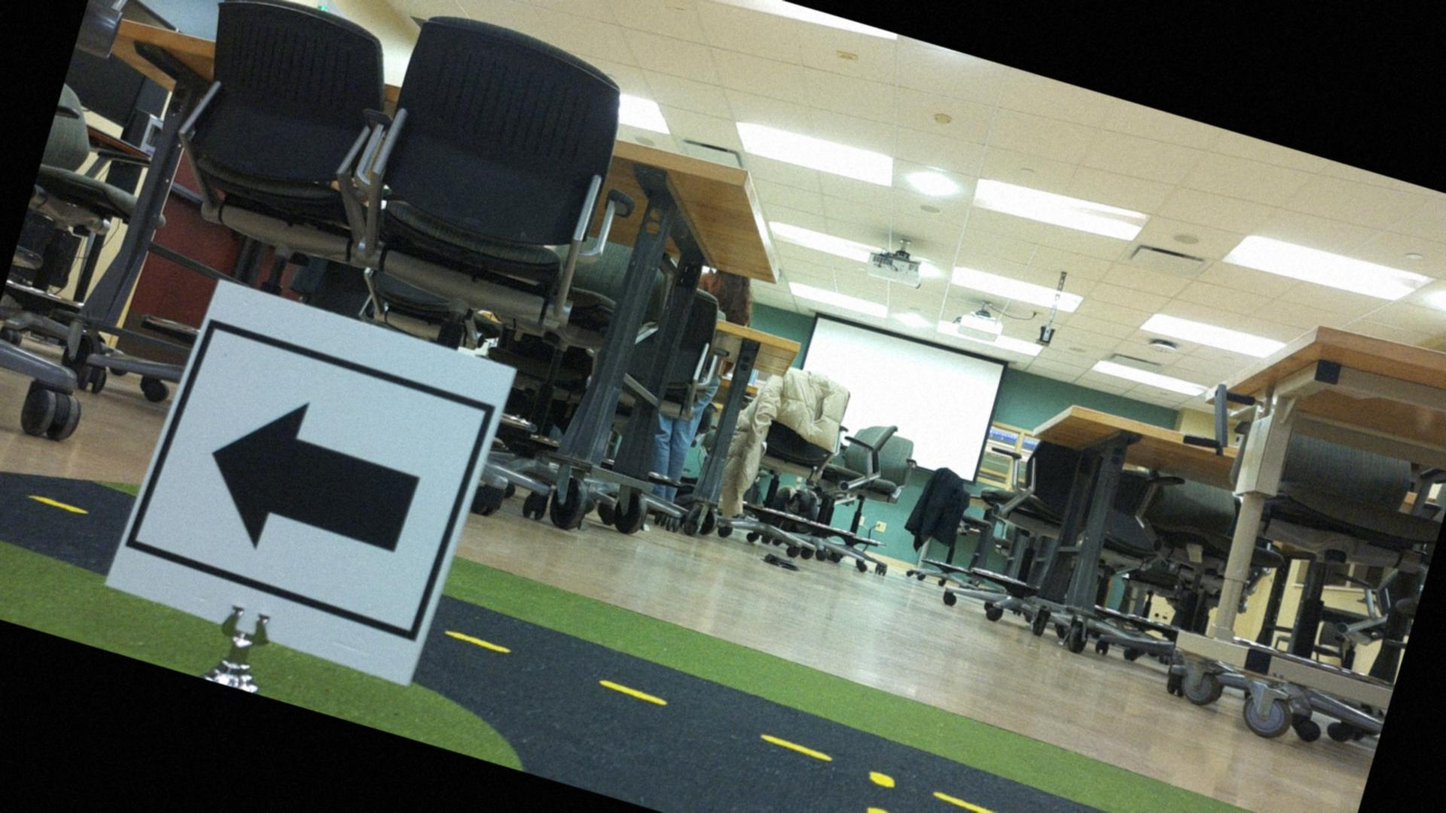turnleft: (127, 283, 505, 674)
yellowline: (441, 627, 1213, 812)
